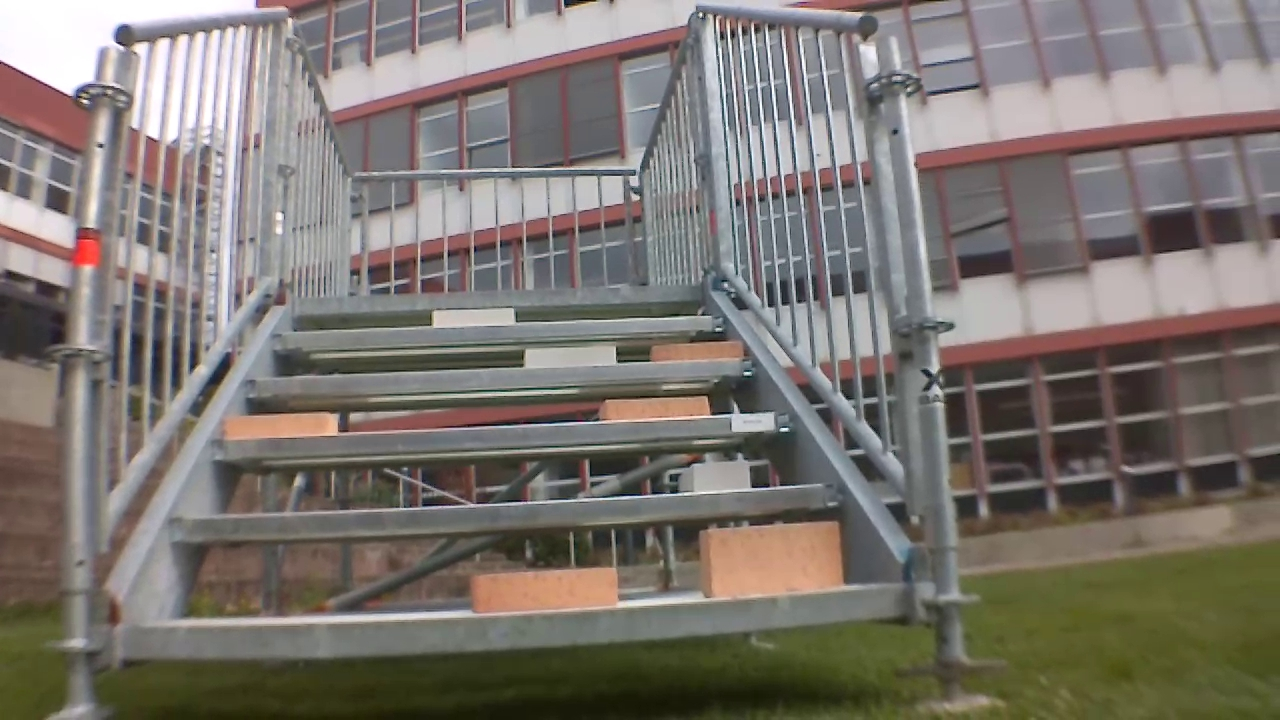brick: (700, 518, 857, 601), (476, 560, 625, 616), (599, 390, 718, 423), (217, 411, 341, 441), (676, 454, 754, 490), (430, 303, 516, 328), (651, 338, 746, 360), (524, 345, 618, 364)
edge: (118, 584, 912, 656), (167, 477, 853, 551), (206, 411, 807, 467), (244, 362, 759, 401), (266, 314, 727, 355), (293, 284, 702, 315)
stairs: (83, 13, 931, 688)
steps: (106, 293, 943, 664)
